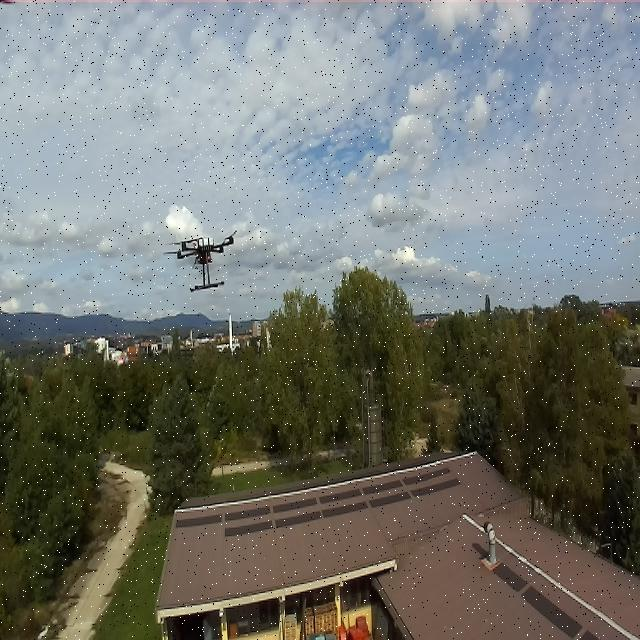UAV: (160, 223, 247, 290)
